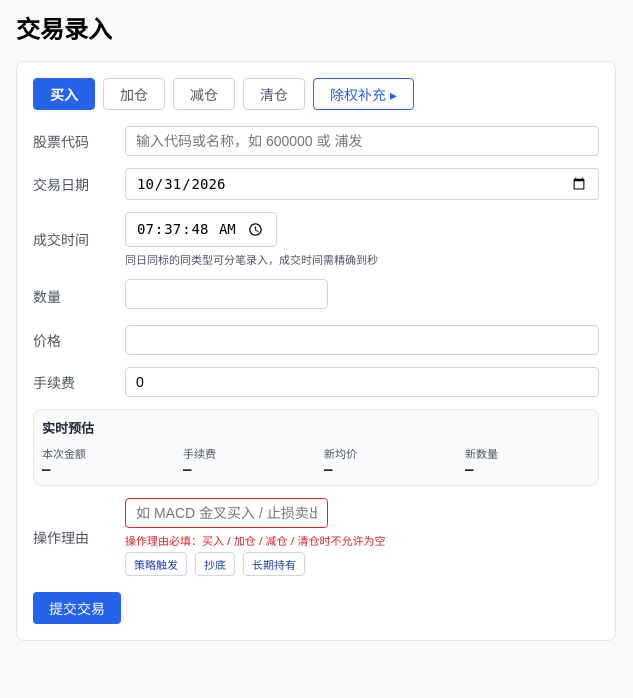
Test: T68 ① · 交易类型 Tab 组与字段联动 › 切到「清仓」→ 自动填入当前持仓数量（字段联动）
Type "sh600000" into the field labelled "股票代码" at (362, 141), box [125,126,599,156]
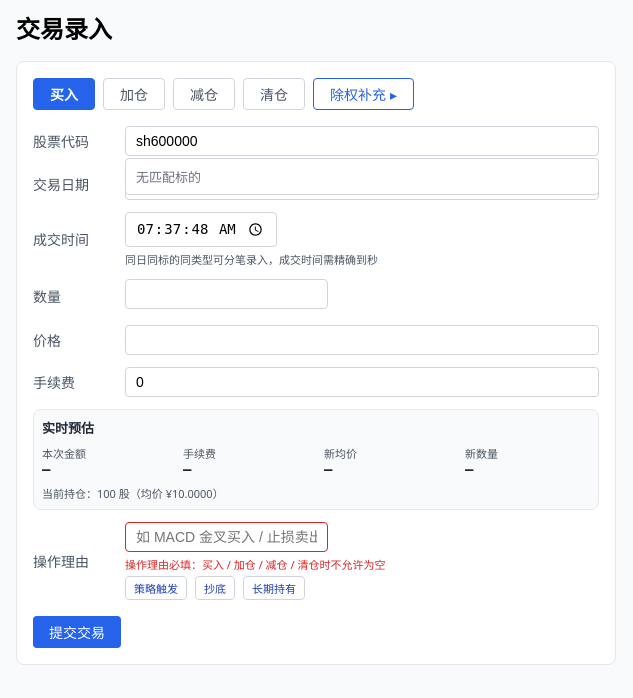
expect the text "当前持仓：100 股（均价 ¥10.0000）" is shown: met, box [42,486,224,501]
Click the tab "清仓" at (274, 94), box [243,78,305,110]
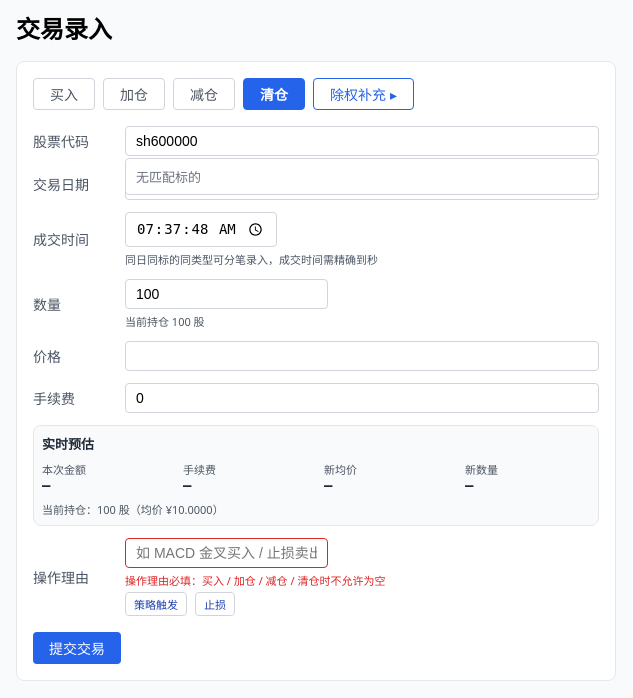
expect the number field labelled "数量" holds "100": met, box [125,279,328,309]
